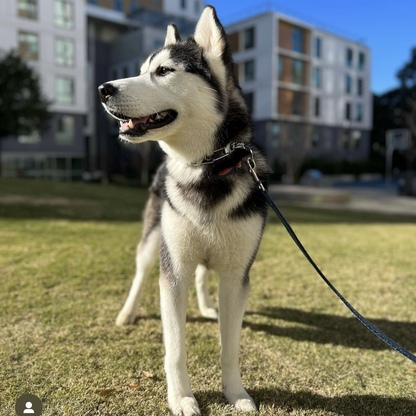husky: (94, 3, 282, 416)
